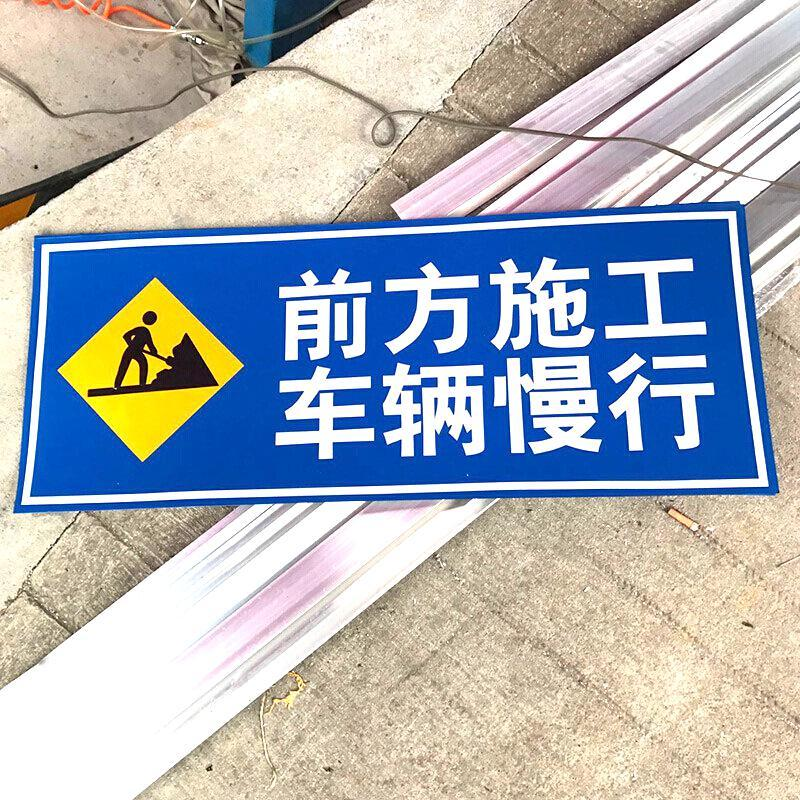sign: (21, 215, 752, 511)
